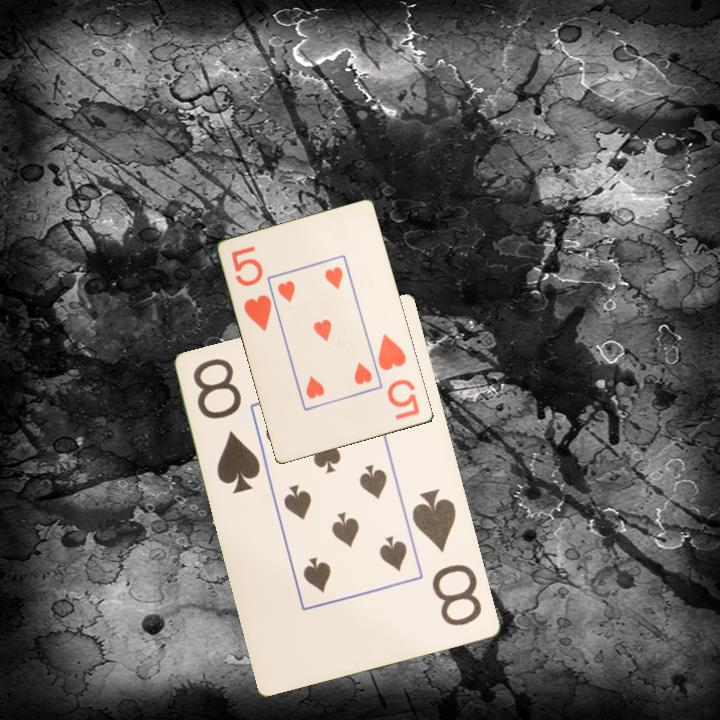5h: (375, 330, 423, 423), (228, 243, 275, 334)
8s: (409, 486, 486, 630), (190, 355, 264, 498)
